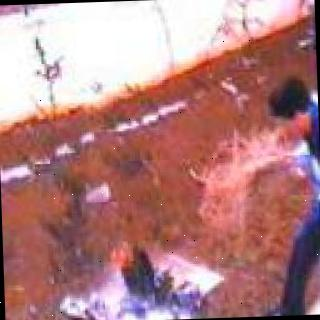fire: (106, 237, 160, 294)
